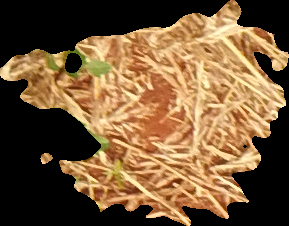soil: (3, 4, 287, 222)
